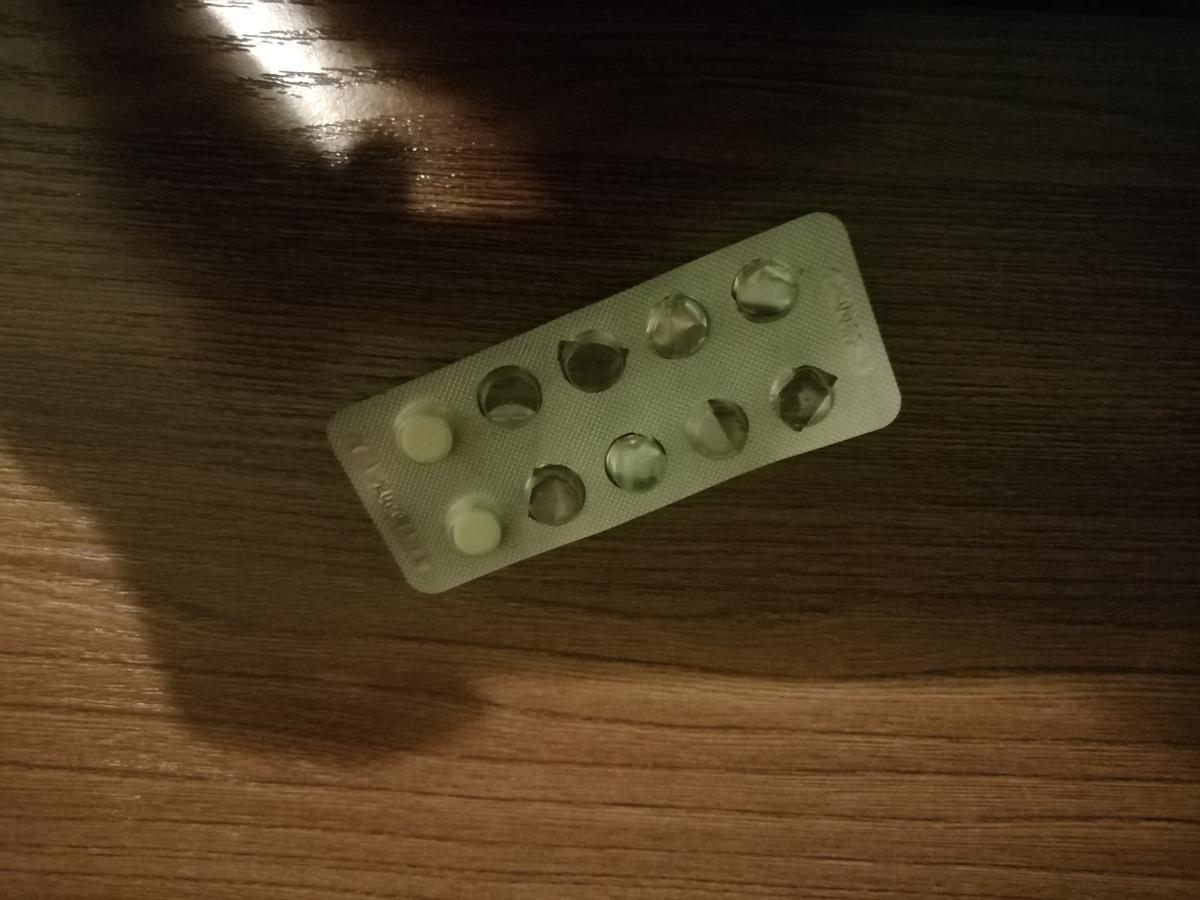tablet: (386, 407, 467, 463), (436, 506, 517, 562)
